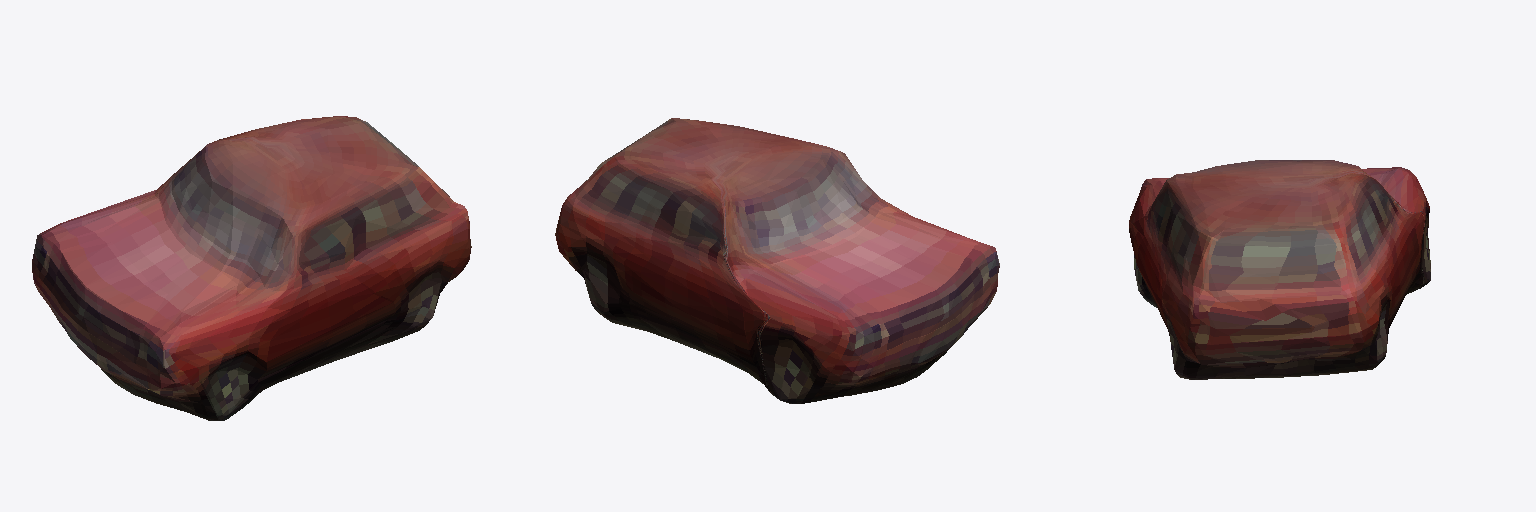
The picture shows the model from 3 angles: view 1: azimuth 30°, elevation 25°; view 2: azimuth 150°, elevation 25°; view 3: azimuth 270°, elevation 25°; orthographic projection.
Size of the model in its own units: 1 by 0.4998 by 0.7342.
Materials: 1 (1 with a texture image).